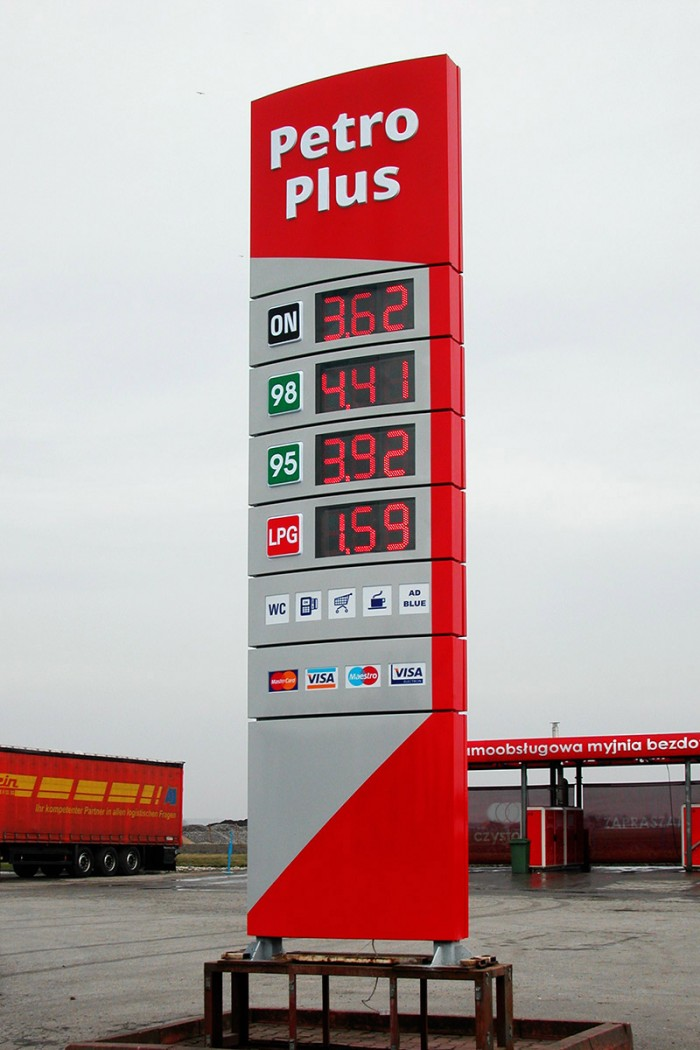LPG: (260, 511, 305, 560)
ON: (260, 439, 303, 489), (263, 301, 302, 349)
PB98: (265, 365, 305, 415)
